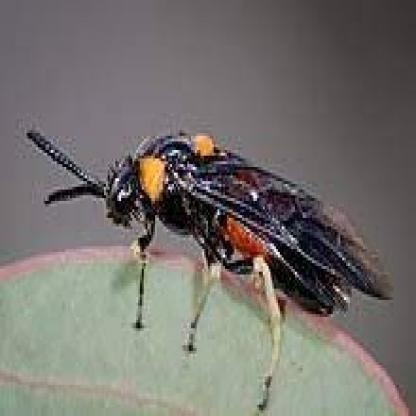sawfly: (28, 127, 394, 415)
